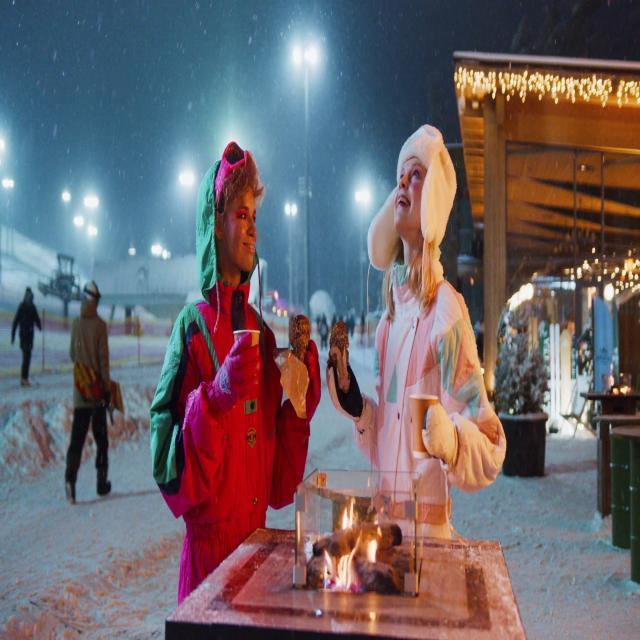Fire: (322, 494, 380, 596)
